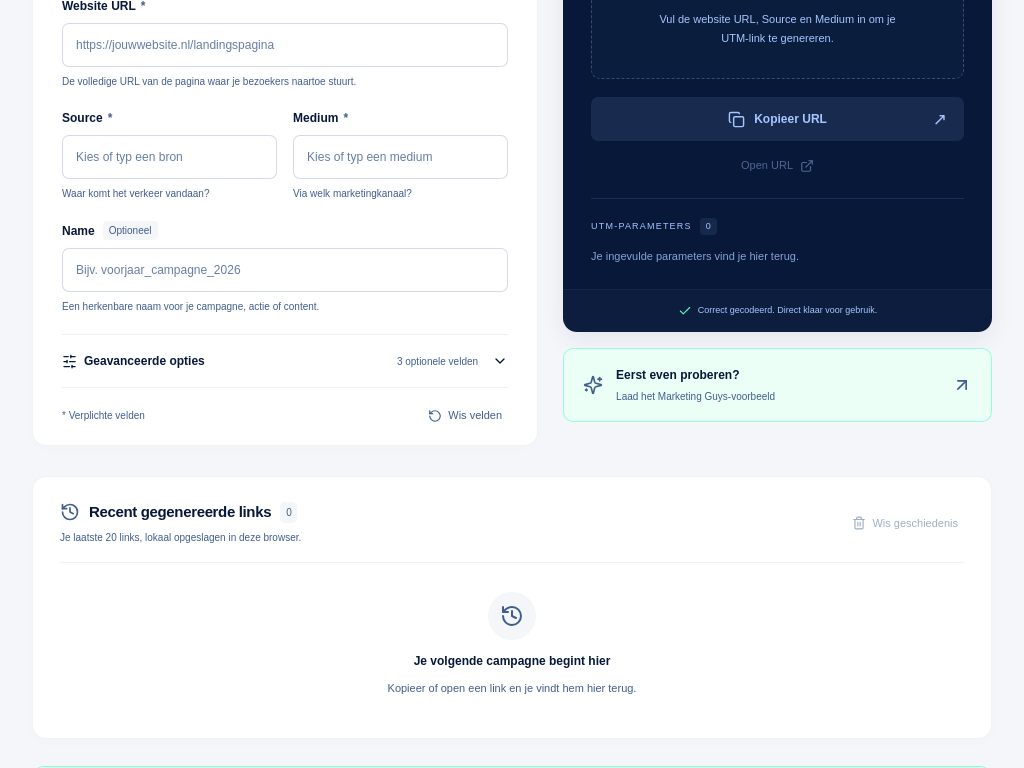
Test case: belangrijkste gebruikersacties › blijft werken bij beschadigde en geblokkeerde browseropslag
The width and height of the screenshot is (1024, 768).
(page scrolled)
Step 1. Click the button "Eerst even proberen? Laad het Marketing Guys-voorbeeld" → (678, 375), box [563,348,992,422]
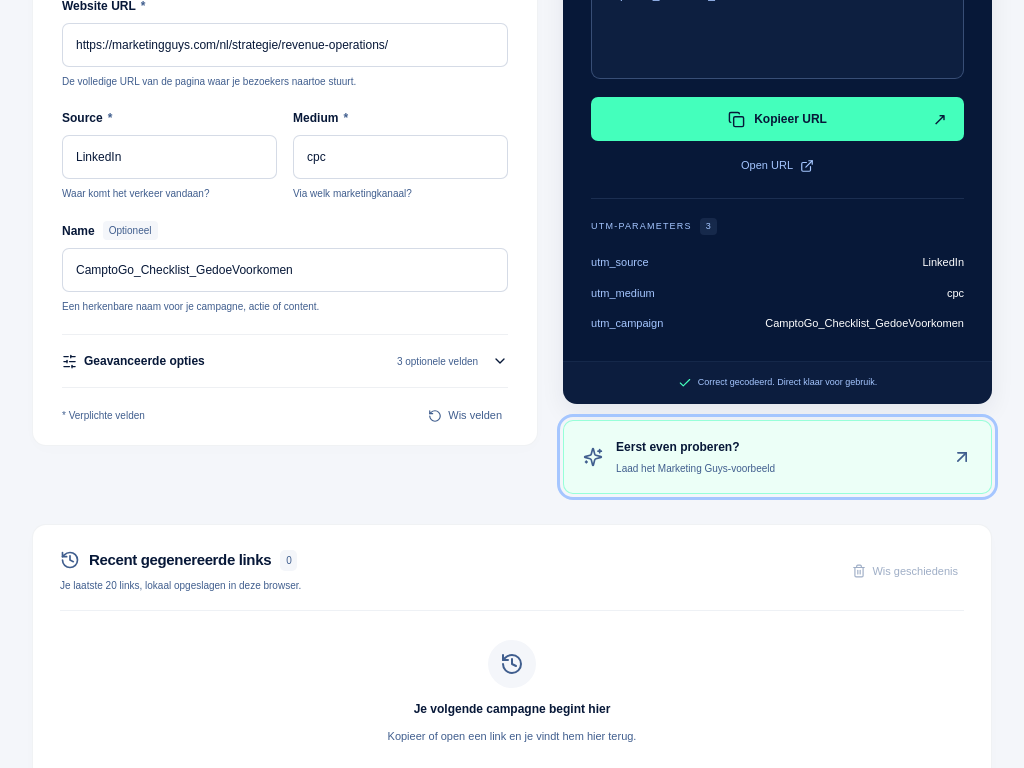
Step 2. Click the button "Kopieer URL ↗" → (778, 119), box [591,97,964,141]
(page scrolled)
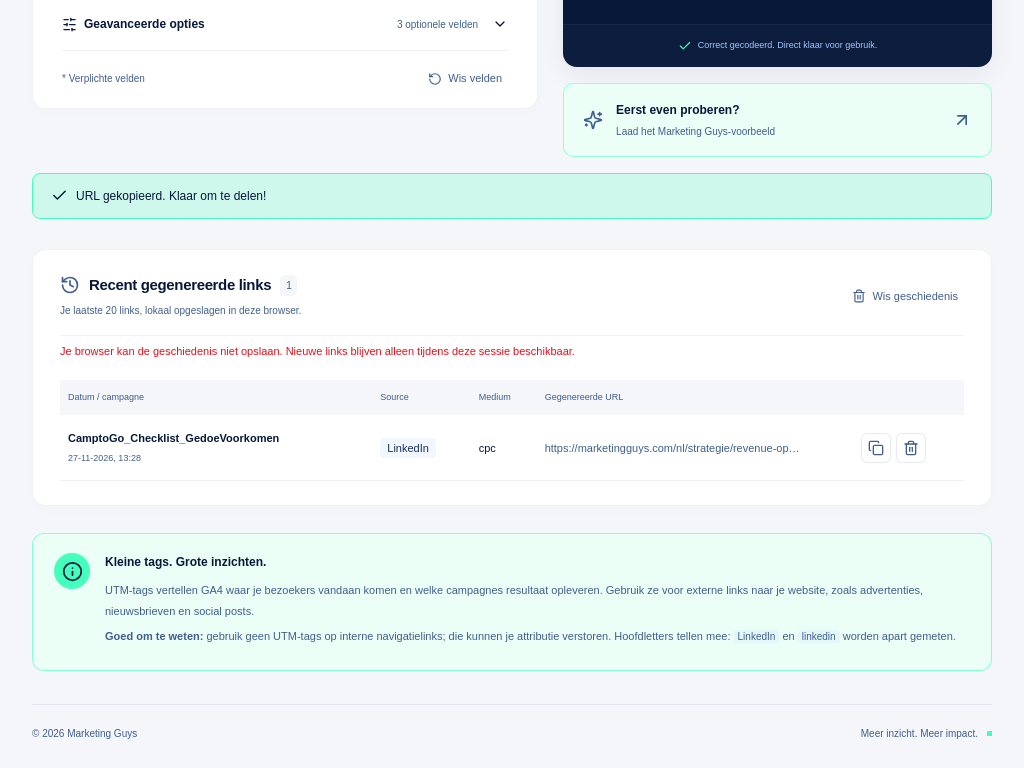
expect the 2nd message is shown: met, box [60,345,575,357]
expect the button named "Verwijder CamptoGo" is shown: met, box [896,433,926,463]
